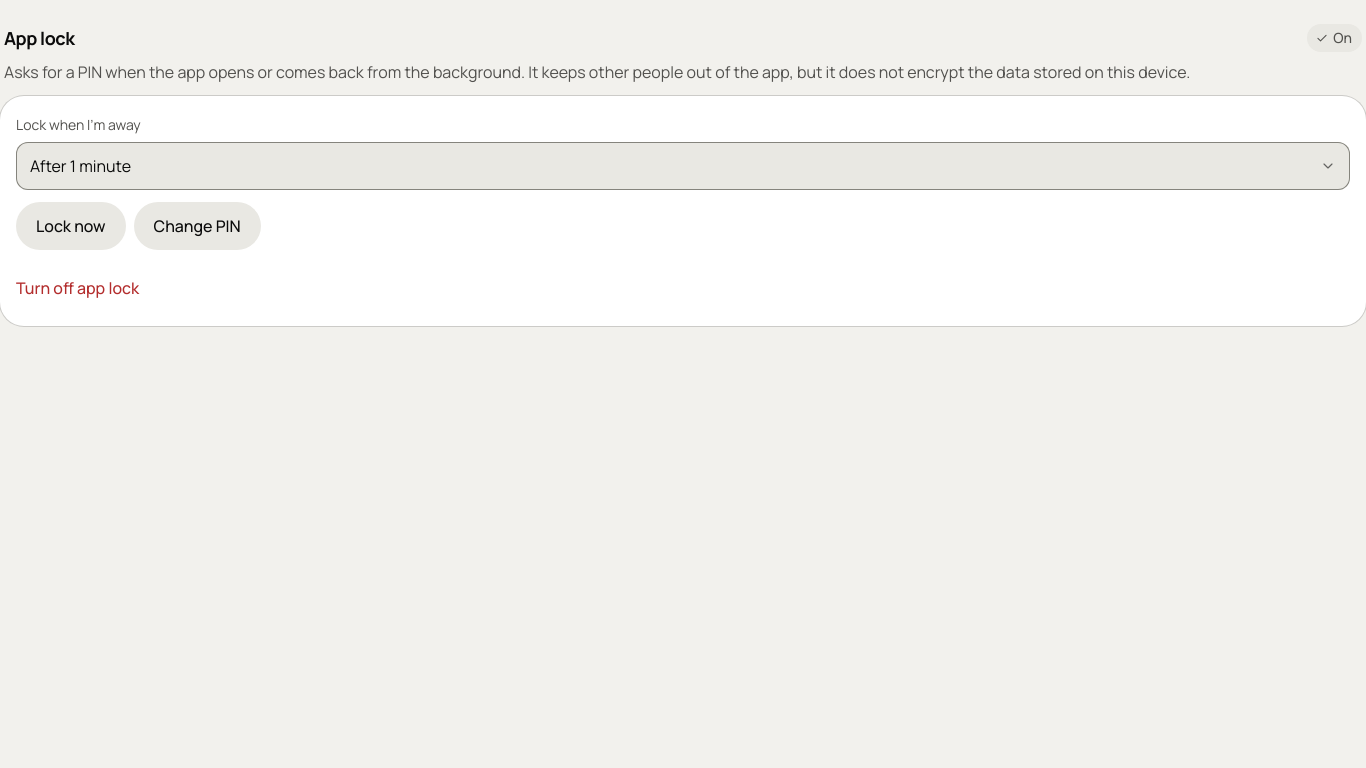
Test: App lock settings › needs the current PIN to change it, then uses the new one
Click the button "Change PIN": (197, 226) [134,202,261,250]
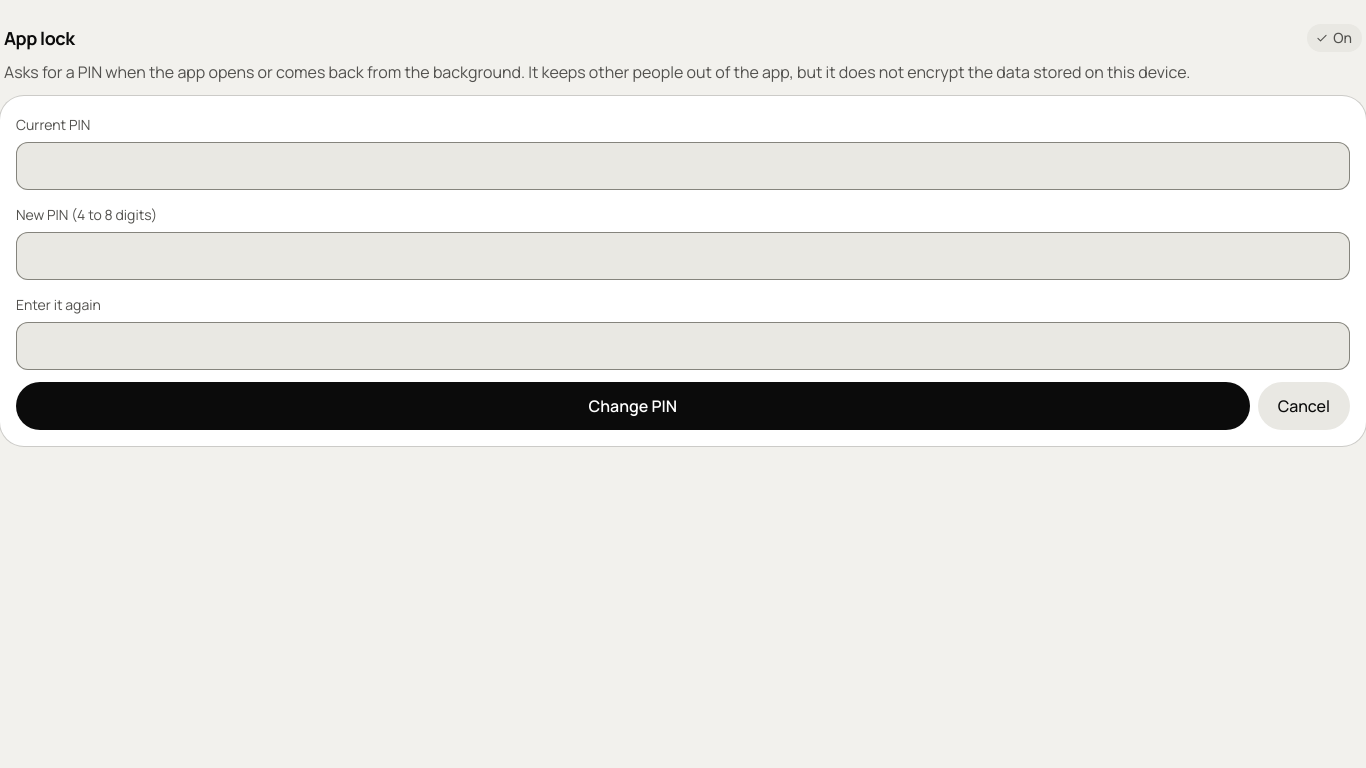
In the password field labelled "Current PIN": (683, 166) [16,142,1350,190], type "9999"
In the password field labelled "New PIN (4 to 8 digits)": (683, 256) [16,232,1350,280], type "5678"
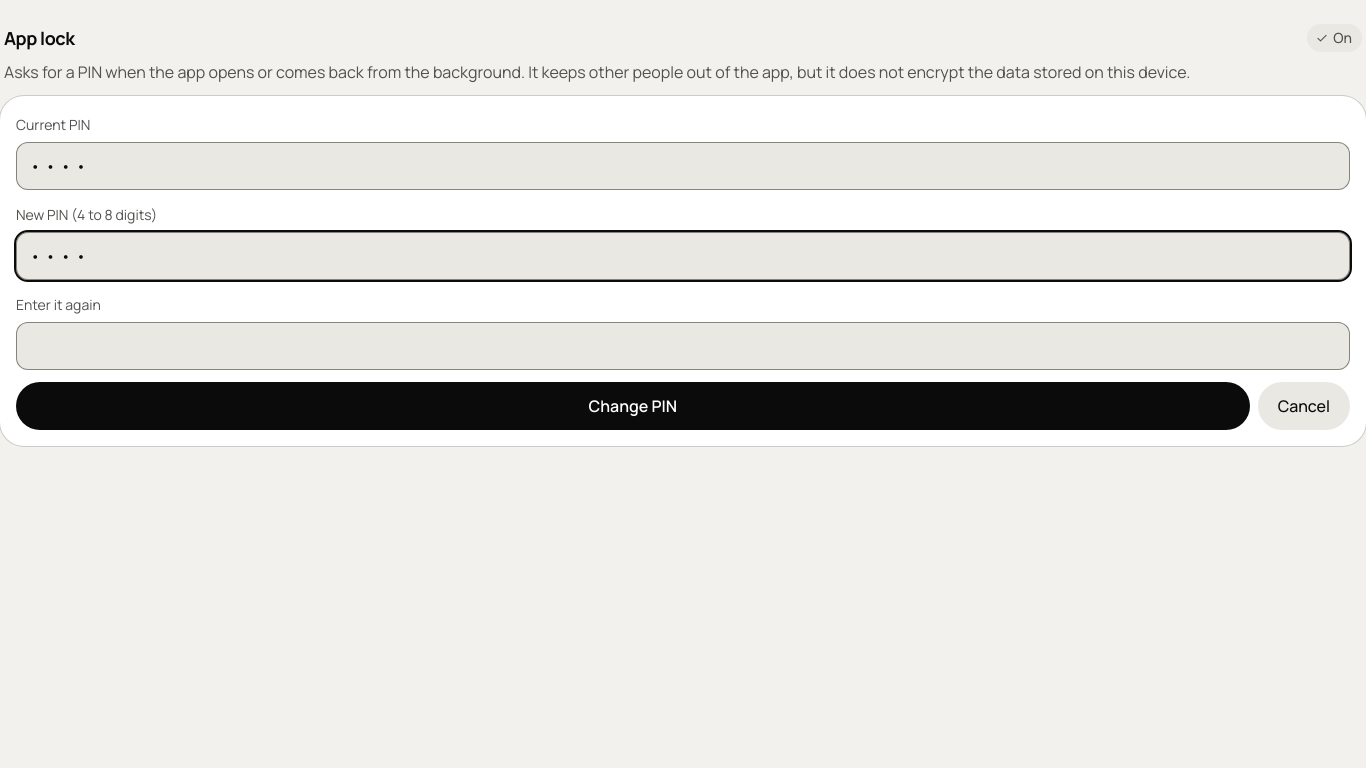
In the password field labelled "Enter it again": (683, 346) [16,322,1350,370], type "5678"
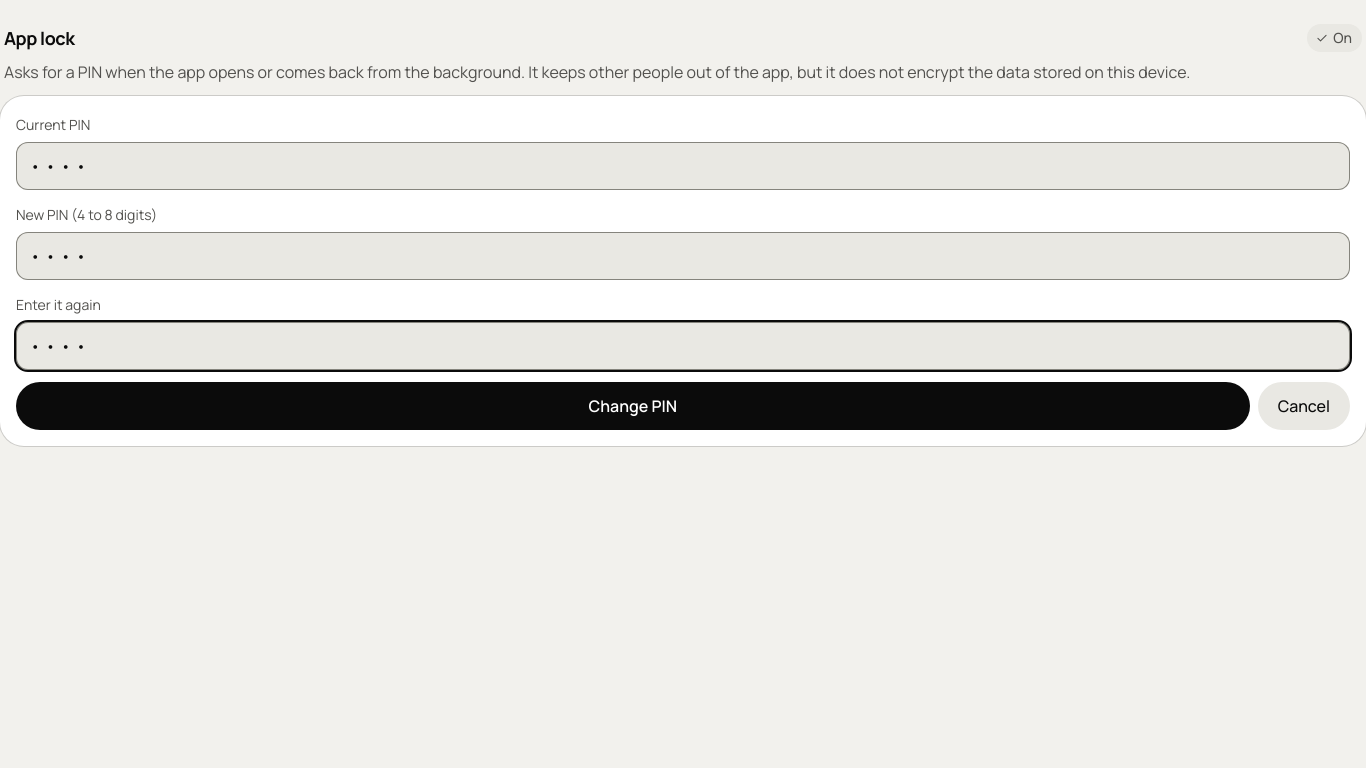
Click the button "Change PIN": (633, 406) [16,382,1250,430]
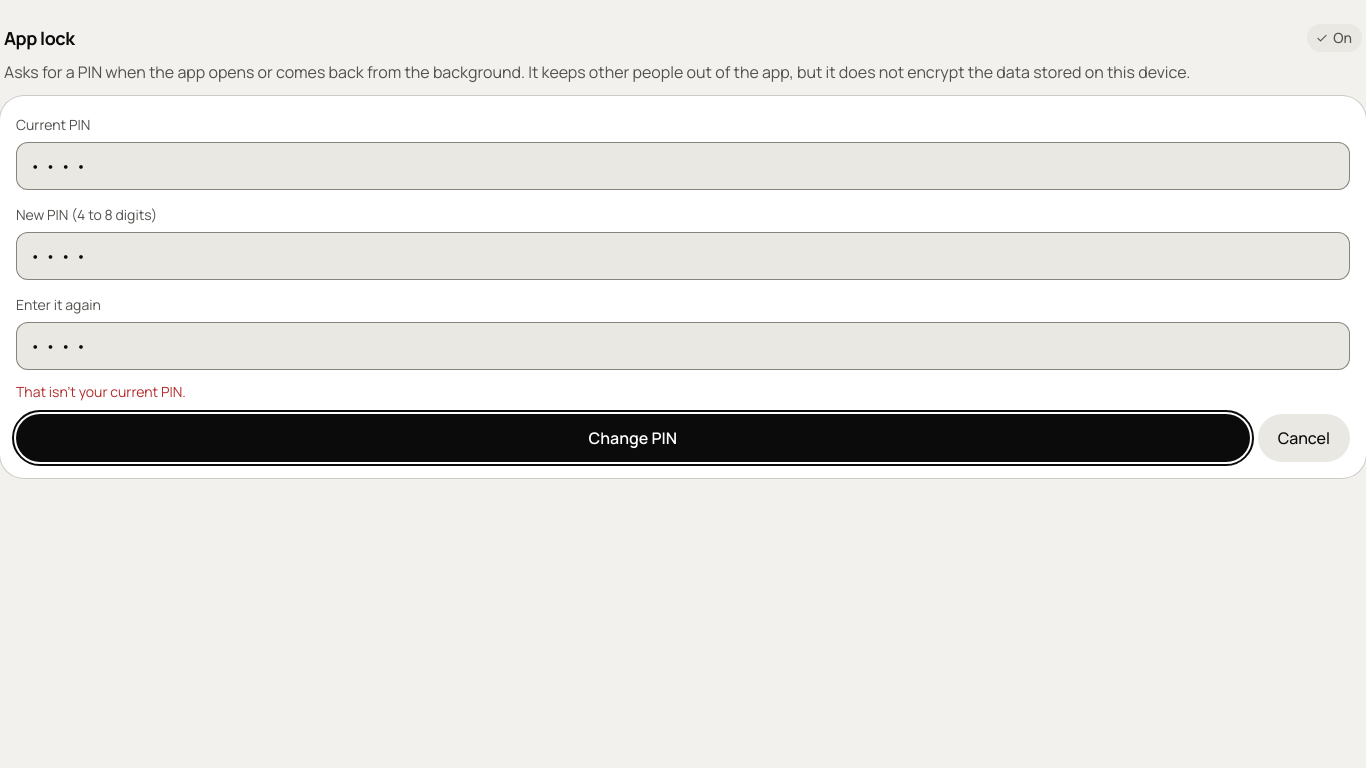
Expected: the message reads "That isn’t your current PIN.", [16,382,186,401]
In the password field labelled "Current PIN": (683, 166) [16,142,1350,190], type "1234"
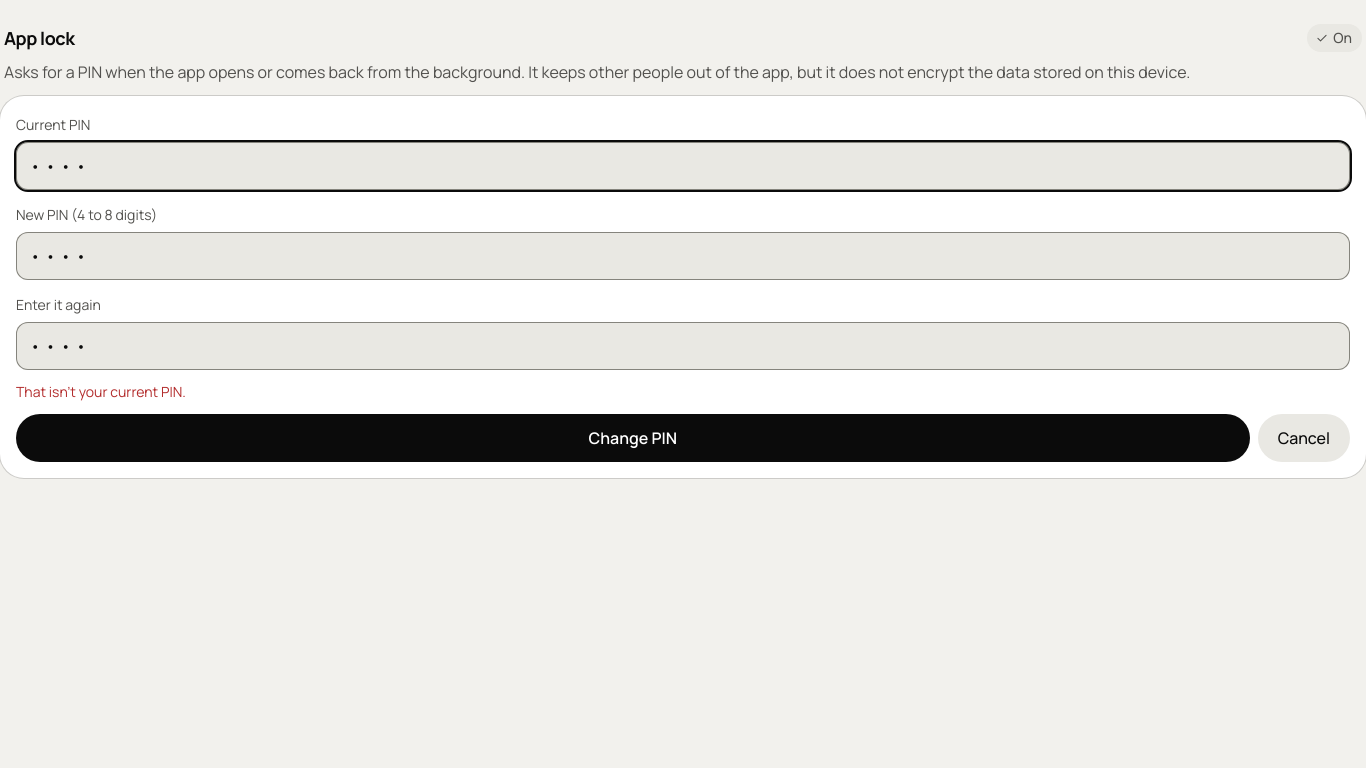
Click the button "Change PIN": (633, 438) [16,414,1250,462]
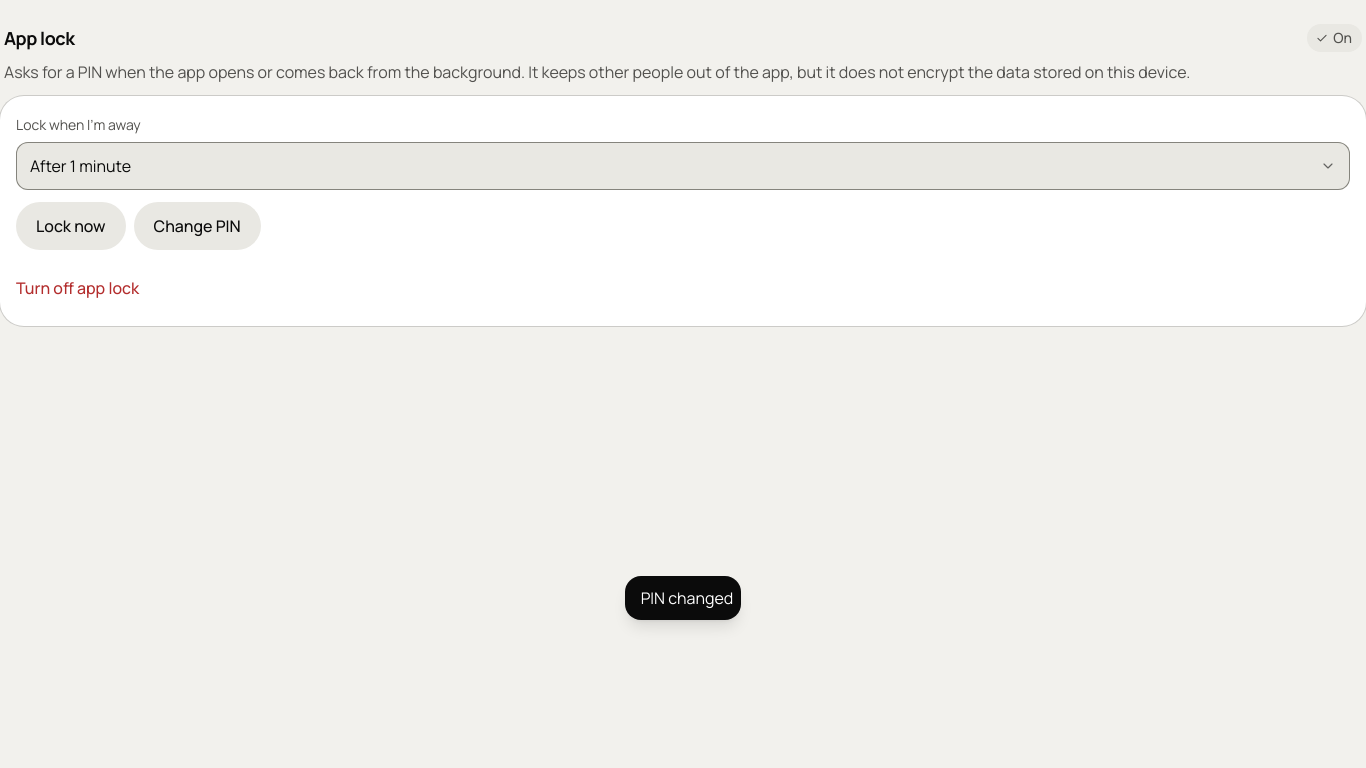
Expected: the message reads "PIN changed", [641,587,733,609]
